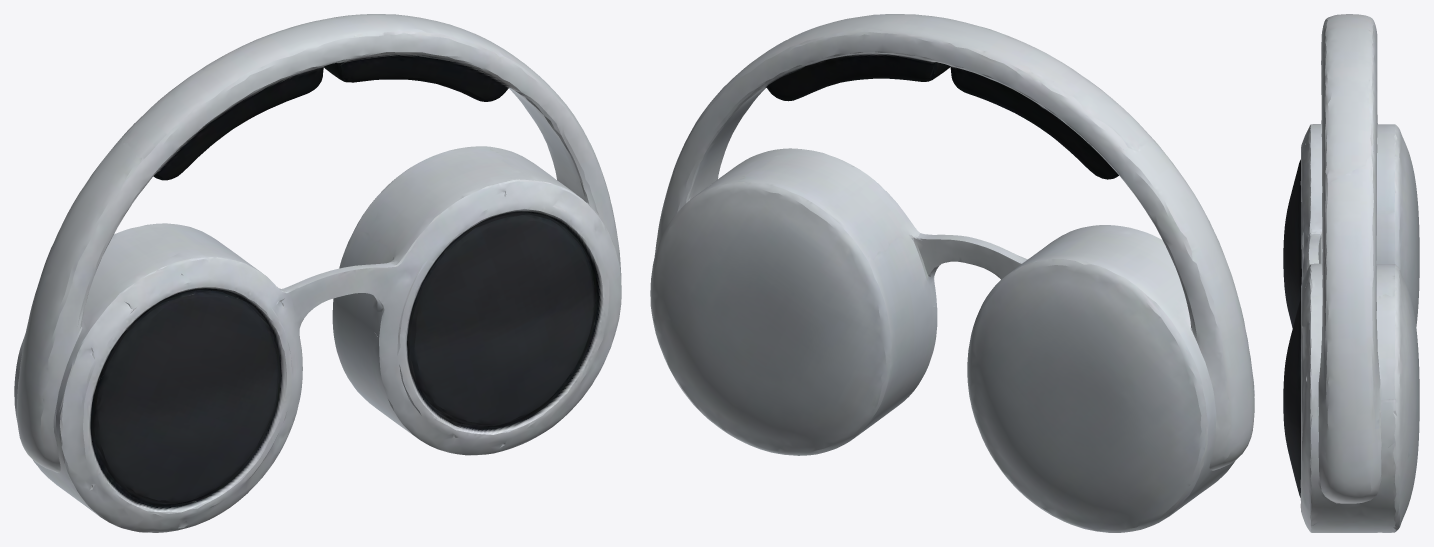
The model's file is arco-orbital-5e1854c71c20.glb.
3 views of the same model, side by side, from view 1: azimuth 30°, elevation 25°; view 2: azimuth 150°, elevation 25°; view 3: azimuth 270°, elevation 25° (orthographic). The views are drawn at different scales.
Visible parts, largest first — view 1: Mesh; view 2: Mesh; view 3: Mesh.
Part boxes in pixels (x1,y1,x2,y2): Mesh: (14,14,621,532); Mesh: (650,14,1254,532); Mesh: (1283,14,1419,532).
Bounding box in the file's own units: 1.9 × 1.38 × 0.419.
1 material, 1 textured.
